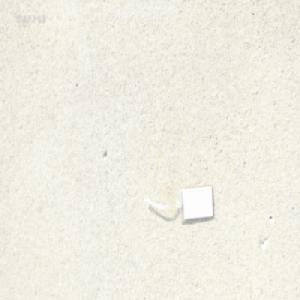LuggageTag: (143, 182, 214, 223)
